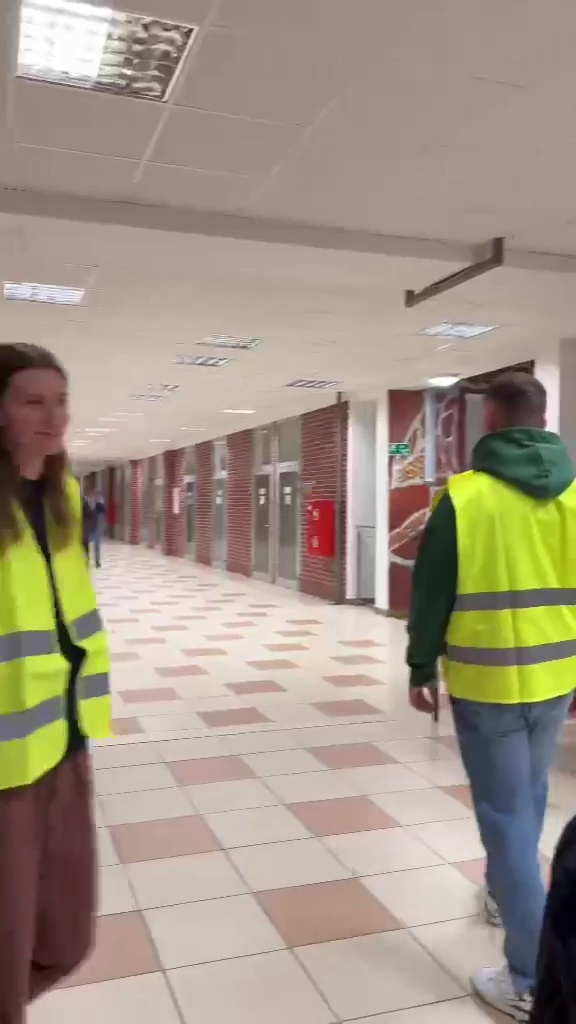vest: (396, 365, 576, 1007), (0, 331, 108, 1021)
